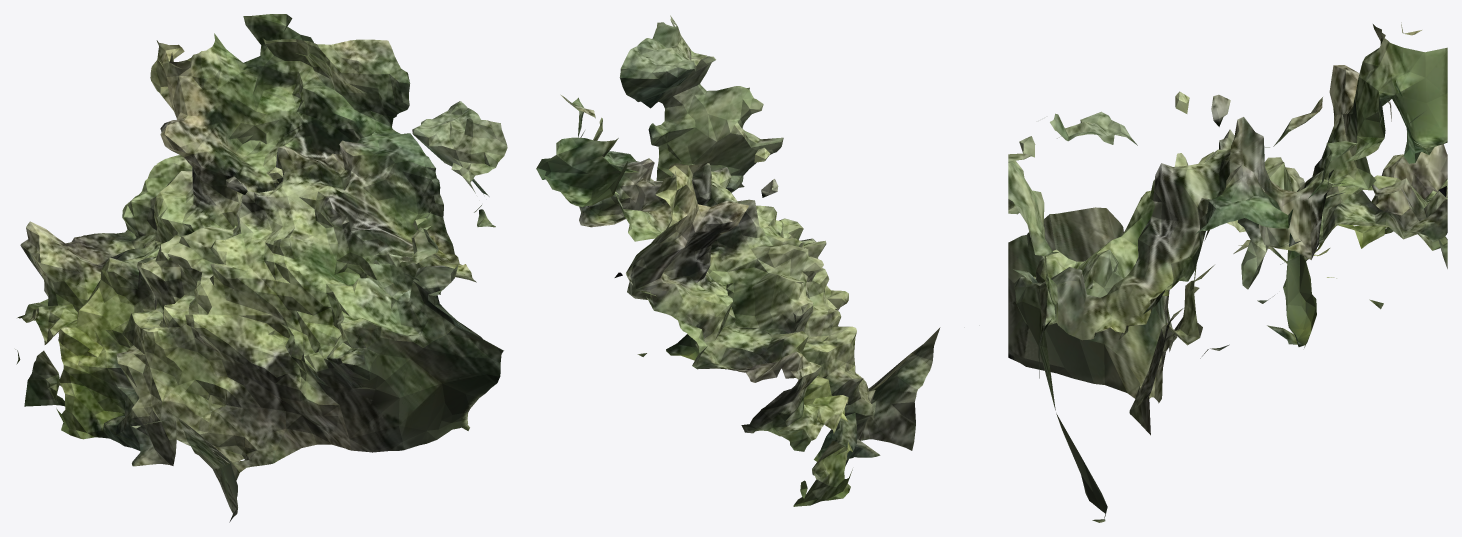
3 views of the same model, side by side, from view 1: azimuth 30°, elevation 25°; view 2: azimuth 150°, elevation 25°; view 3: azimuth 270°, elevation 25° (orthographic). The views are drawn at different scales.
Size of the model in its own units: 11.8 by 11.8 by 11.8.
Materials: 6 (6 with a texture image).
